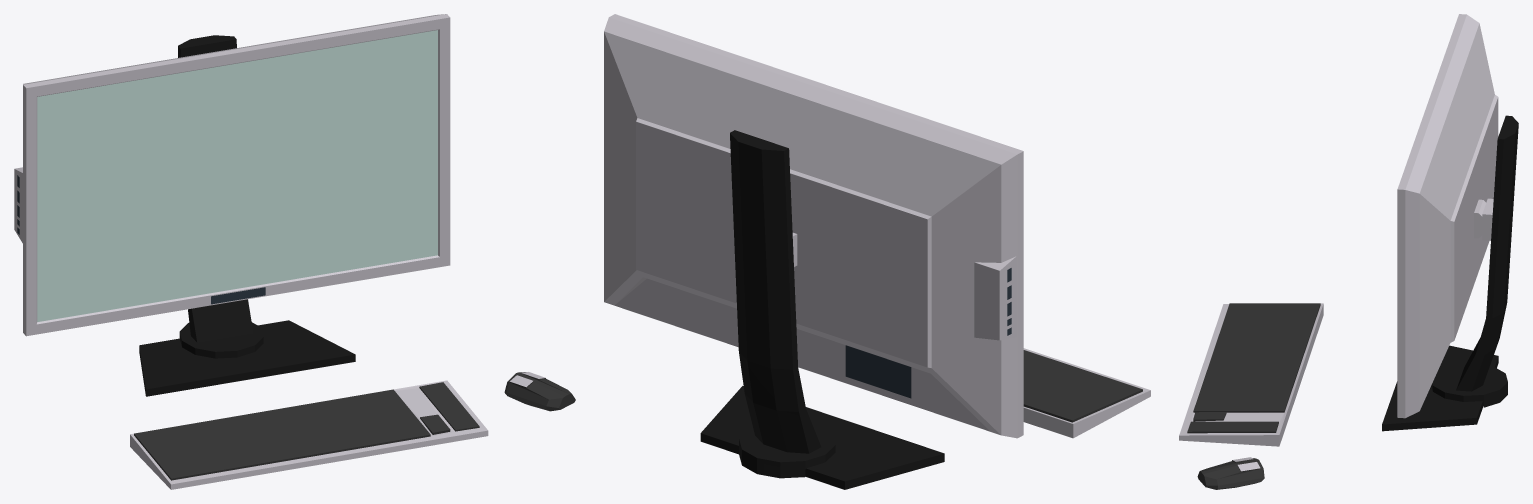
Rendered from Pc_All_Eq.fbx.
3 views of the same model, side by side, from view 1: azimuth 30°, elevation 25°; view 2: azimuth 150°, elevation 25°; view 3: azimuth 270°, elevation 25° (orthographic). The views are drawn at different scales.
Visible parts, largest first — view 1: Monitor_01.004, Keyboard.002, Cube.073; view 2: Monitor_01.004, Keyboard.002; view 3: Monitor_01.004, Keyboard.002, Cube.073.
Part boxes in pixels (bbox=[...]): Monitor_01.004: bbox=[14, 14, 450, 396]; Keyboard.002: bbox=[130, 380, 488, 489]; Cube.073: bbox=[504, 372, 575, 411]; Monitor_01.004: bbox=[604, 14, 1023, 489]; Keyboard.002: bbox=[1023, 348, 1150, 438]; Monitor_01.004: bbox=[1382, 14, 1518, 431]; Keyboard.002: bbox=[1179, 303, 1323, 446]; Cube.073: bbox=[1197, 457, 1264, 489].
Size of the model in its own units: 78.23 by 57.39 by 60.43.
